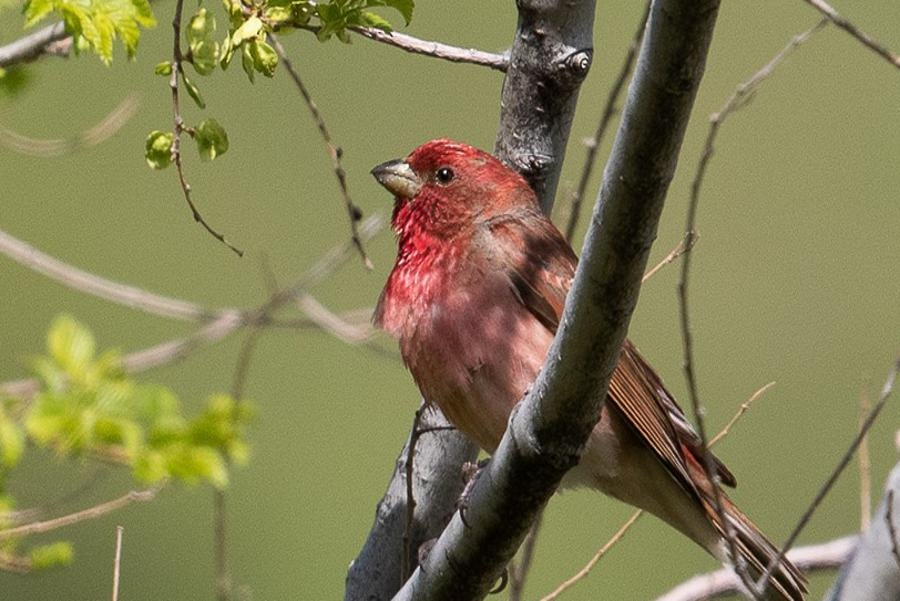rosefinch: (363, 107, 690, 525)
